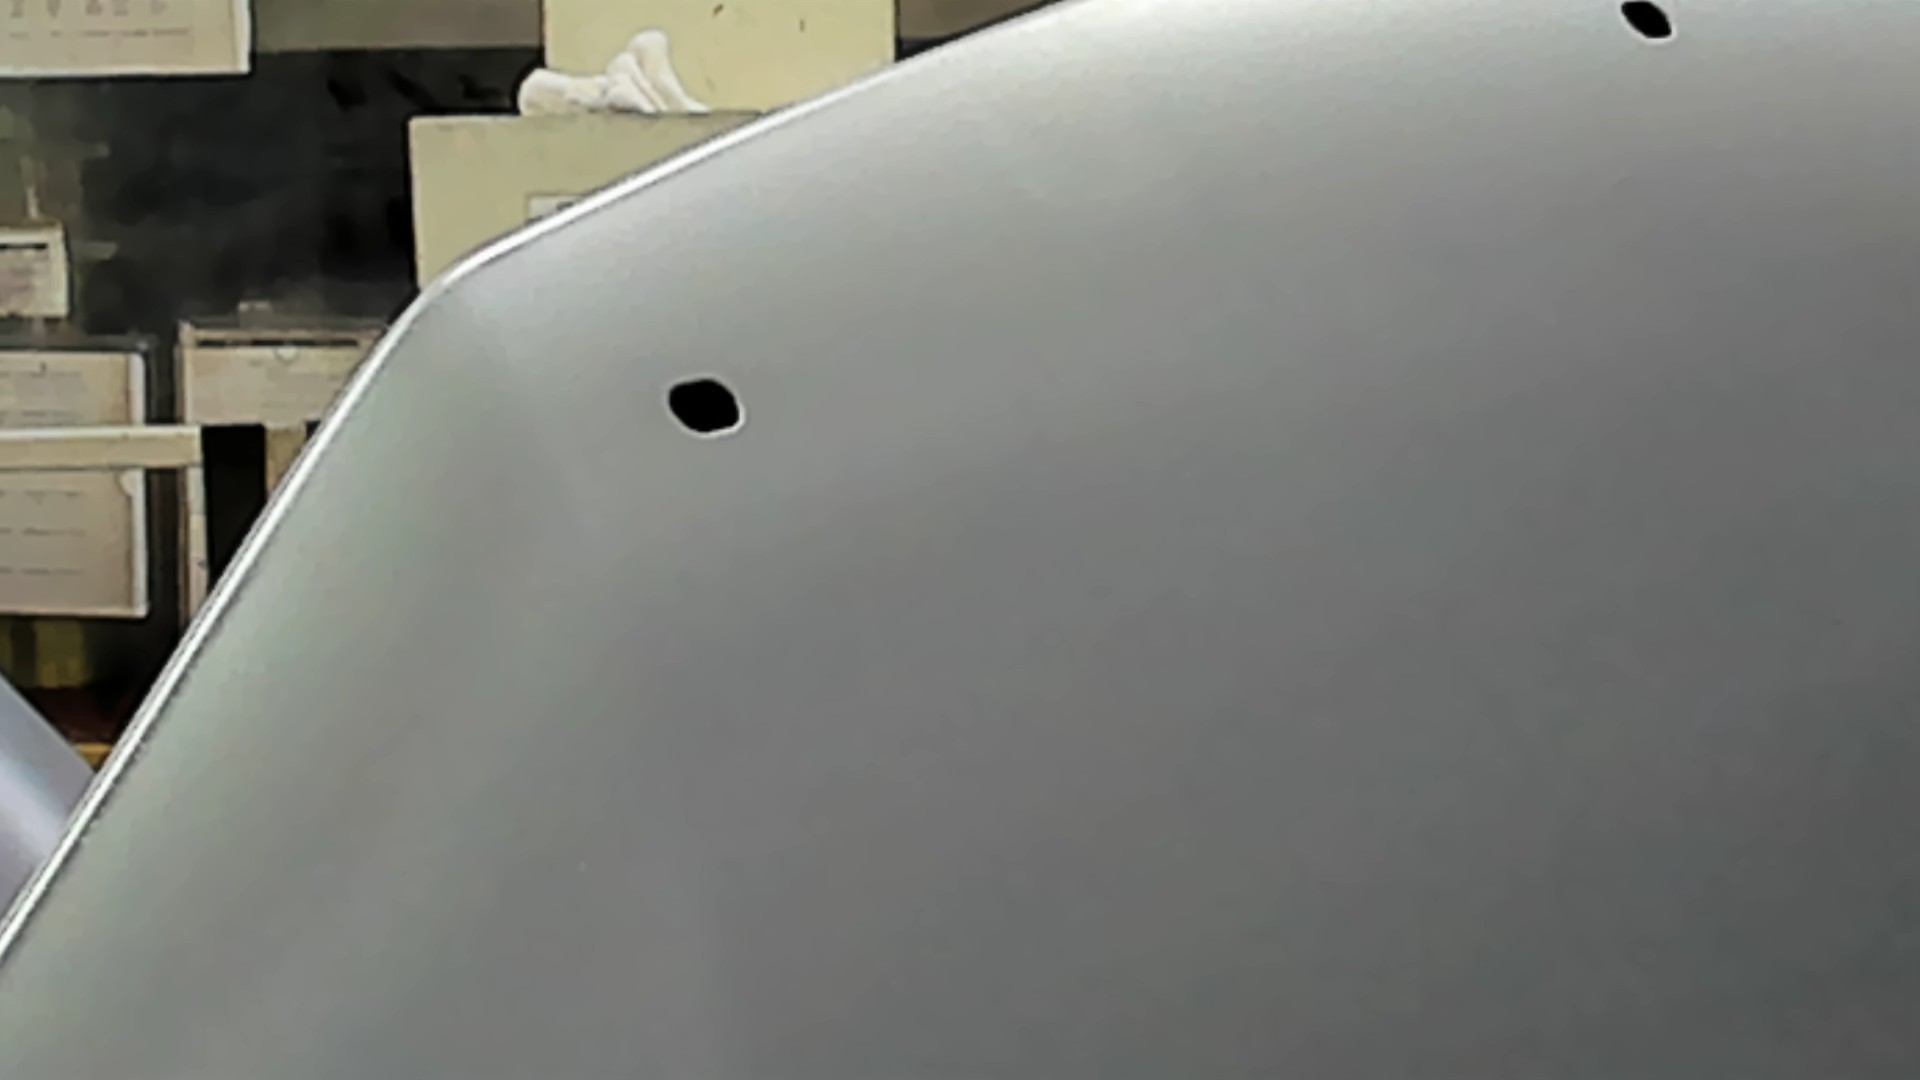amorfo: (665, 372, 748, 444), (1615, 1, 1680, 45)
